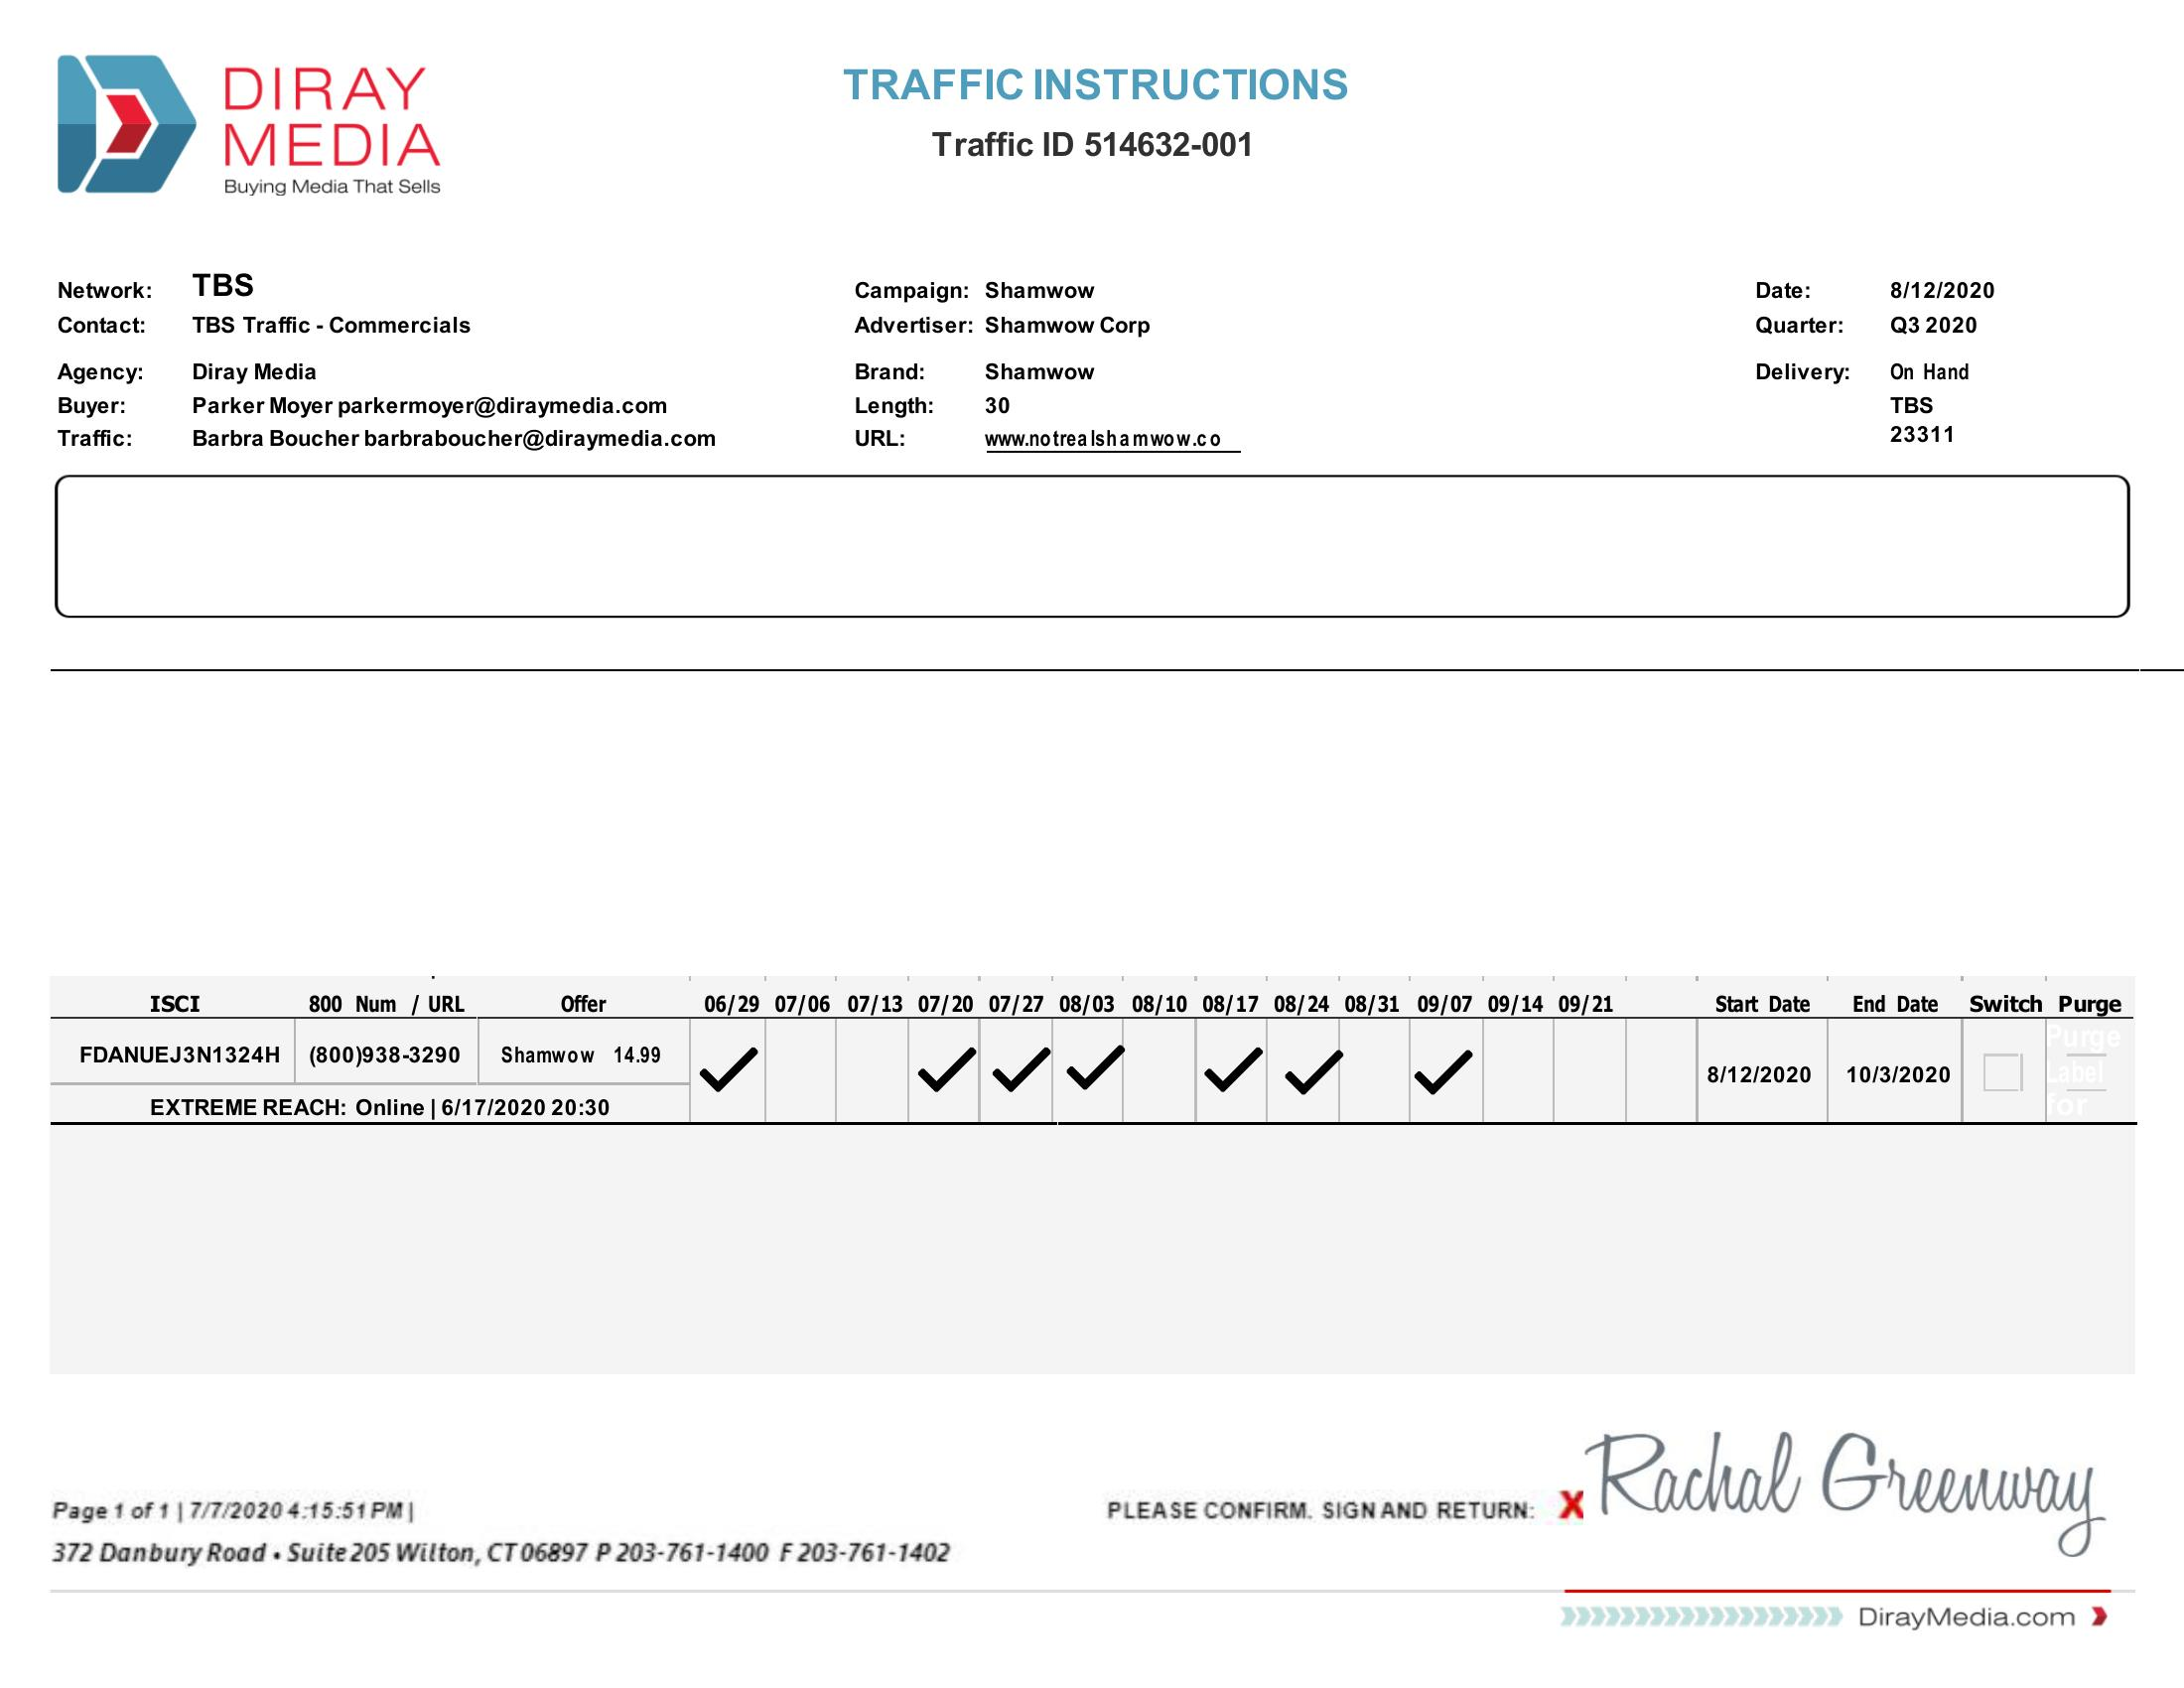table: (27, 950, 2154, 1149), (37, 259, 2016, 459)
